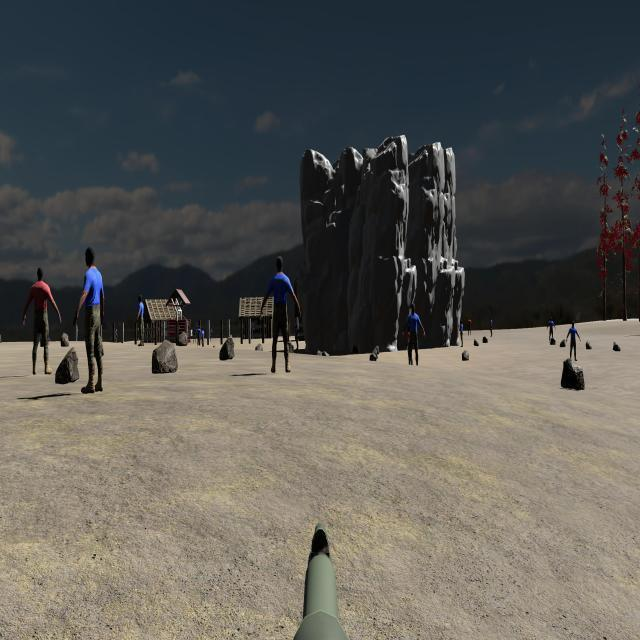Human: (74, 244, 106, 394), (261, 256, 301, 374), (22, 266, 62, 376), (402, 303, 426, 368)
